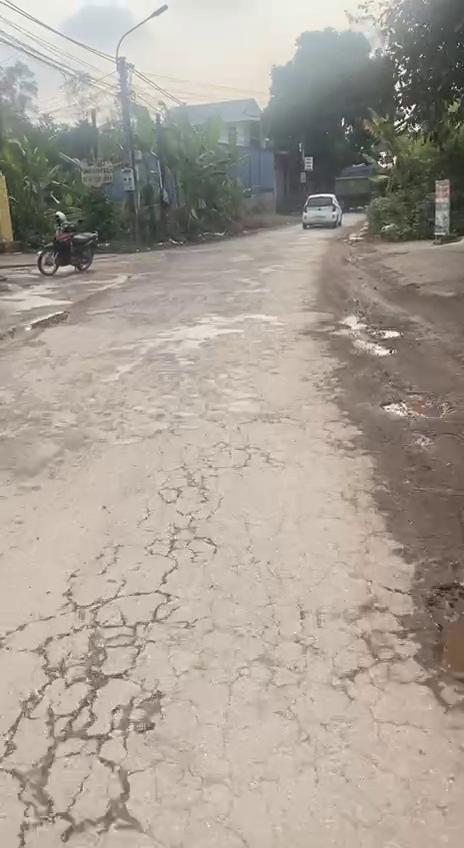pothole: (0, 598, 184, 848), (404, 566, 464, 711), (340, 314, 404, 358), (379, 389, 454, 421), (28, 306, 71, 333)
